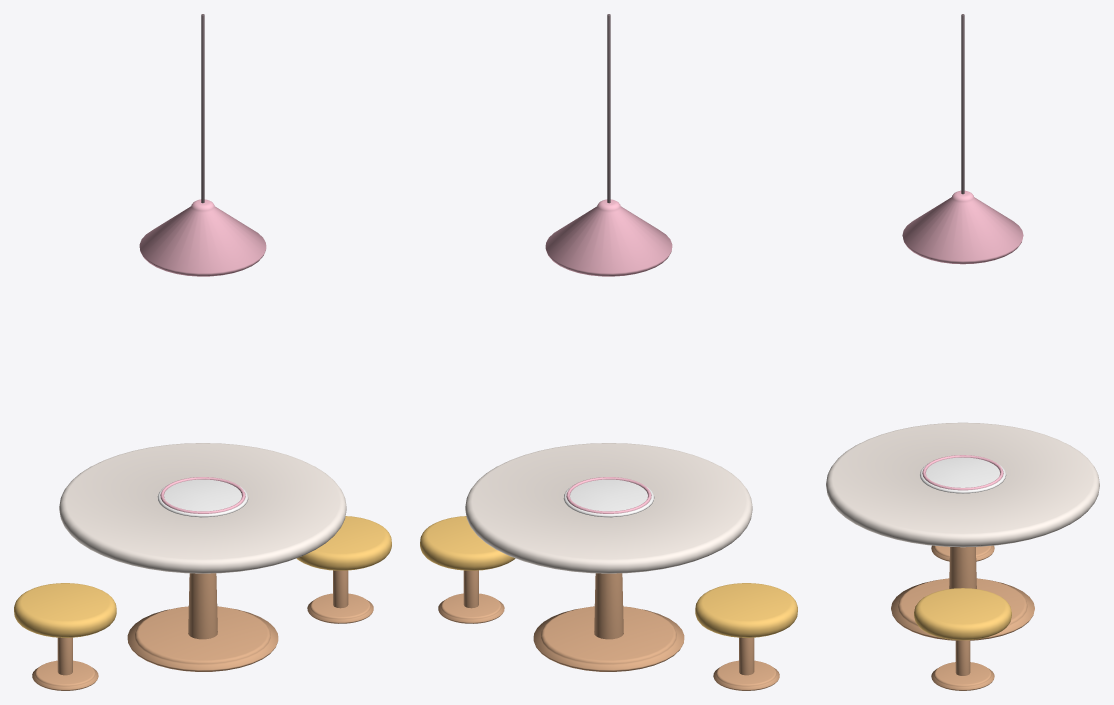
File: diningtable.glb
The picture shows the model from 3 angles, left to right: view 1: azimuth 30°, elevation 25°; view 2: azimuth 150°, elevation 25°; view 3: azimuth 270°, elevation 25°; orthographic projection. The views are drawn at different scales.
Parts seen in each view (by area): view 1: top, ce2b088, cffd27a, cffc4d6, plate, cord; view 2: top, ce2b088, cffd27a, cffc4d6, plate, cord; view 3: top, cffc4d6, ce2b088, cffd27a, plate, cord.
Boxes of the visible parts, x1=… form: top: x1=59, y1=443, x2=346, y2=573; ce2b088: x1=32, y1=570, x2=373, y2=690; cffd27a: x1=14, y1=516, x2=391, y2=637; cffc4d6: x1=139, y1=199, x2=266, y2=513; plate: x1=157, y1=479, x2=248, y2=517; cord: x1=201, y1=14, x2=204, y2=203; top: x1=465, y1=443, x2=752, y2=573; ce2b088: x1=438, y1=570, x2=779, y2=690; cffd27a: x1=420, y1=516, x2=797, y2=637; cffc4d6: x1=545, y1=199, x2=672, y2=513; plate: x1=563, y1=479, x2=654, y2=517; cord: x1=607, y1=14, x2=610, y2=203; top: x1=826, y1=422, x2=1099, y2=547; cffc4d6: x1=902, y1=190, x2=1023, y2=490; ce2b088: x1=891, y1=545, x2=1034, y2=690; cffd27a: x1=914, y1=588, x2=1011, y2=640; plate: x1=919, y1=457, x2=1006, y2=493; cord: x1=961, y1=14, x2=964, y2=194.
Size of the model in its own units: 2.78 by 4.6 by 1.9.
